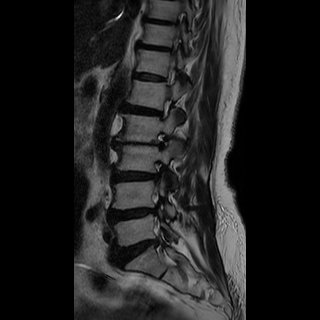LFS0: (153, 93, 176, 124)
LFS3: (150, 126, 173, 155)
